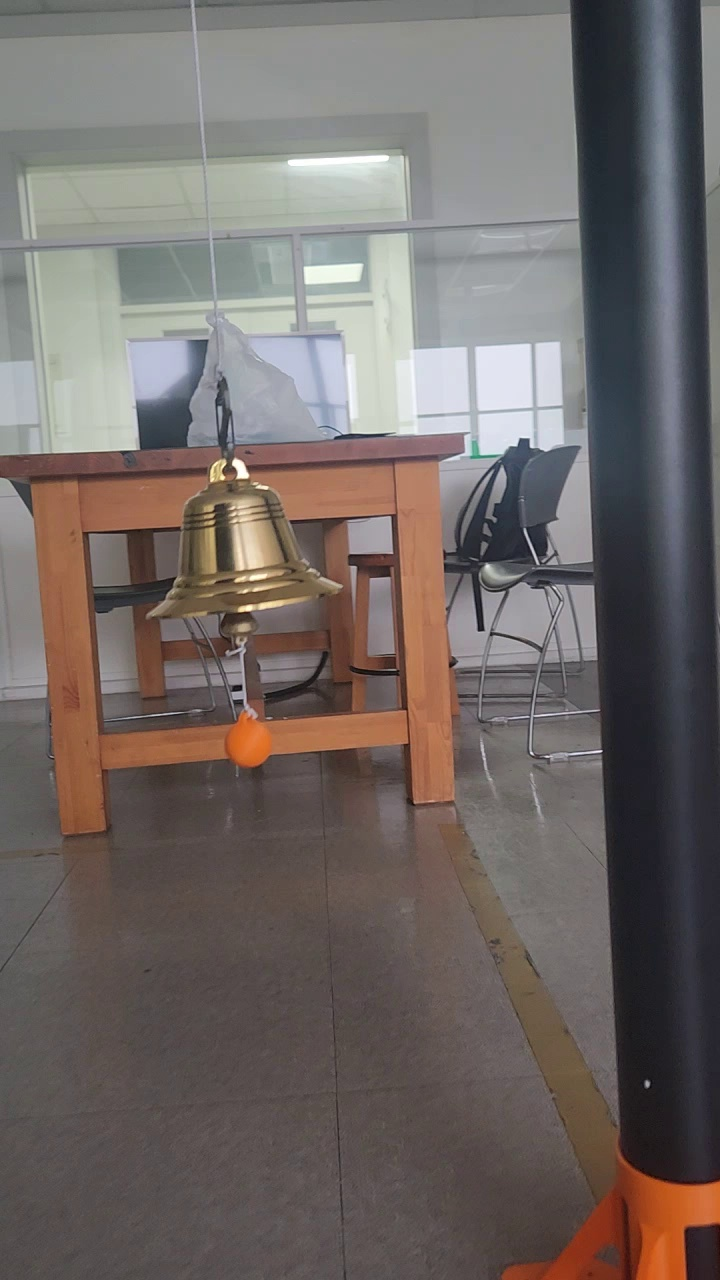bell: (138, 471, 344, 629)
pole: (572, 2, 720, 1153)
